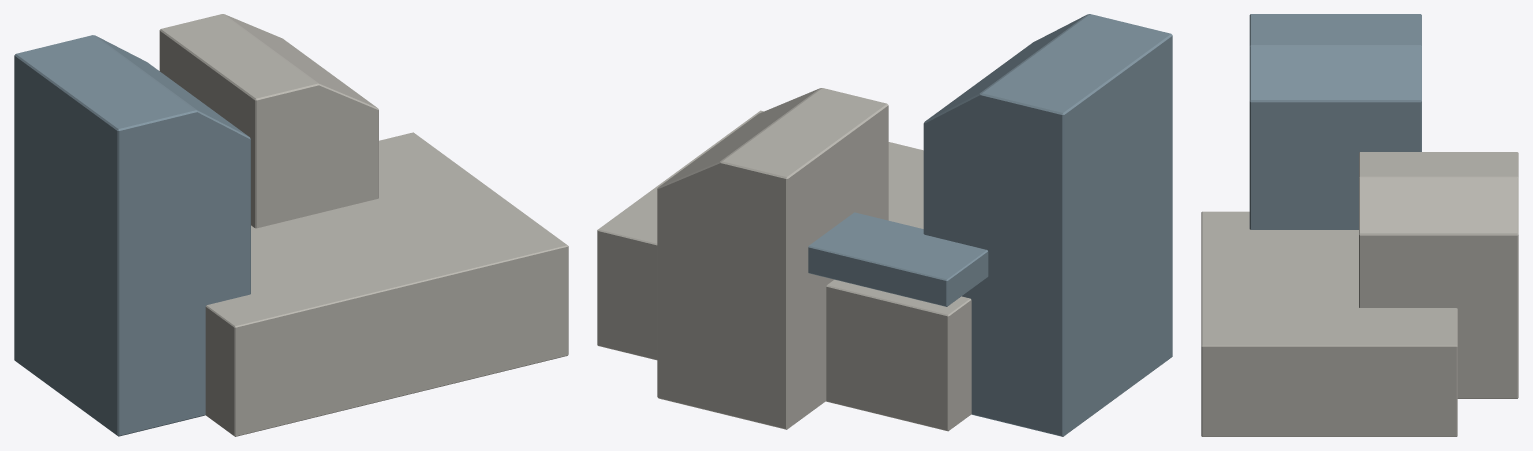
The model's file is CityV7_SkylineLow.fbx.
3 views of the same model, side by side, from view 1: azimuth 30°, elevation 25°; view 2: azimuth 150°, elevation 25°; view 3: azimuth 270°, elevation 25° (orthographic). The views are drawn at different scales.
Parts seen in each view (by area): view 1: CityV7_SkylineLow__CityV7_Mineral, CityV7_SkylineLow__CityV7_BlueStone; view 2: CityV7_SkylineLow__CityV7_BlueStone, CityV7_SkylineLow__CityV7_Mineral; view 3: CityV7_SkylineLow__CityV7_Mineral, CityV7_SkylineLow__CityV7_BlueStone.
Part boxes in pixels (box(x1,y1,x2,y2)): CityV7_SkylineLow__CityV7_Mineral: box(159, 14, 568, 436); CityV7_SkylineLow__CityV7_BlueStone: box(14, 35, 250, 436); CityV7_SkylineLow__CityV7_BlueStone: box(808, 14, 1172, 436); CityV7_SkylineLow__CityV7_Mineral: box(597, 88, 971, 431); CityV7_SkylineLow__CityV7_Mineral: box(1201, 152, 1518, 436); CityV7_SkylineLow__CityV7_BlueStone: box(1249, 14, 1421, 229).
Bounding box in the file's own units: 17.23 × 12 × 13.59.
